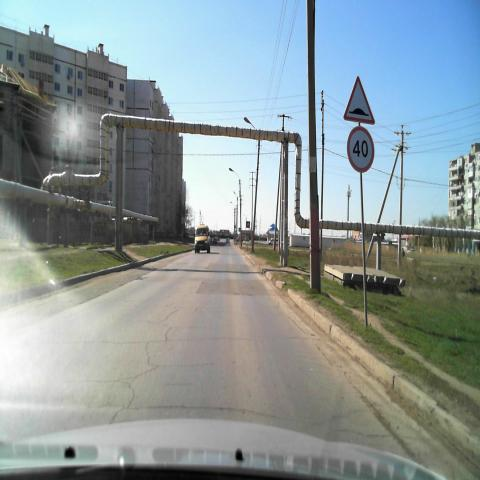1_17: (341, 74, 377, 128)
3_24: (346, 126, 376, 175)
